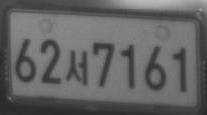1: (170, 47, 193, 93), (117, 43, 139, 90)
2: (39, 38, 62, 85)
6: (144, 44, 167, 90), (14, 38, 37, 82)
7: (91, 42, 115, 87)
서: (65, 48, 88, 86)
